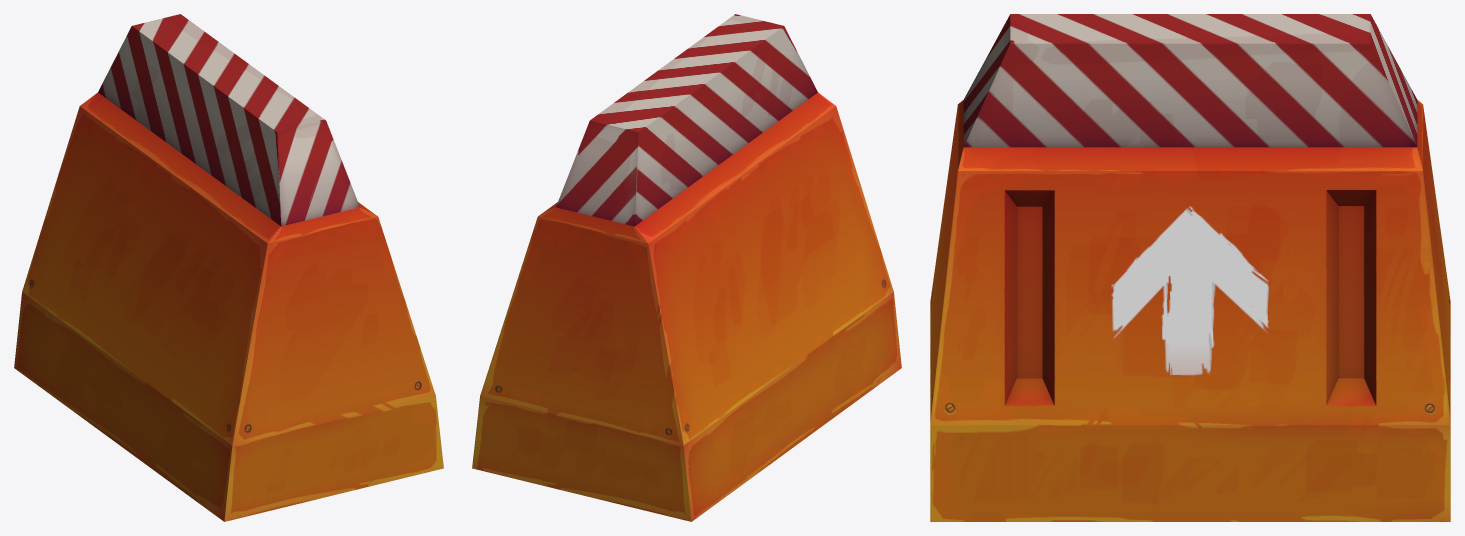
File: Barrier.glb
3 renders of one model, left to right at view 1: azimuth 30°, elevation 25°; view 2: azimuth 150°, elevation 25°; view 3: azimuth 270°, elevation 25°, orthographic. The views are drawn at different scales.
Visible parts, largest first — view 1: Куб; view 2: Куб; view 3: Куб.
Boxes of the visible parts, <box> form: Куб: <box>14,14,443,521</box>; Куб: <box>472,14,901,521</box>; Куб: <box>930,14,1450,521</box>.
Size of the model in its own units: 1.71 by 2.56 by 2.83.
1 material, 1 textured.
